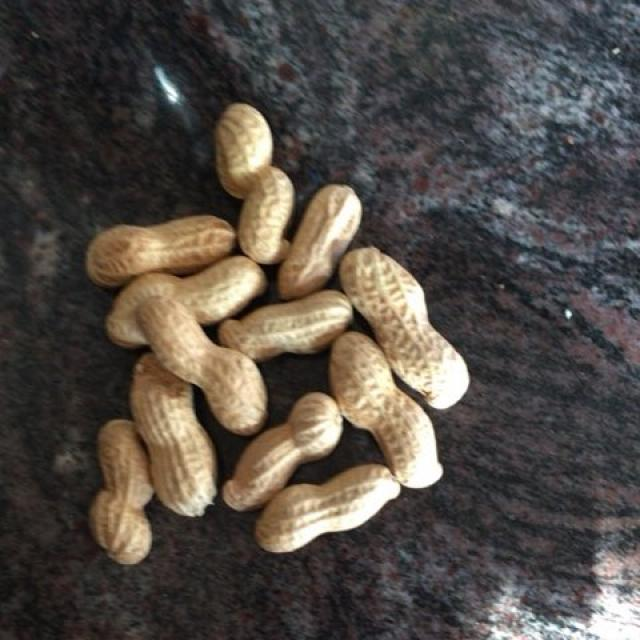peanut: (90, 102, 459, 550)
